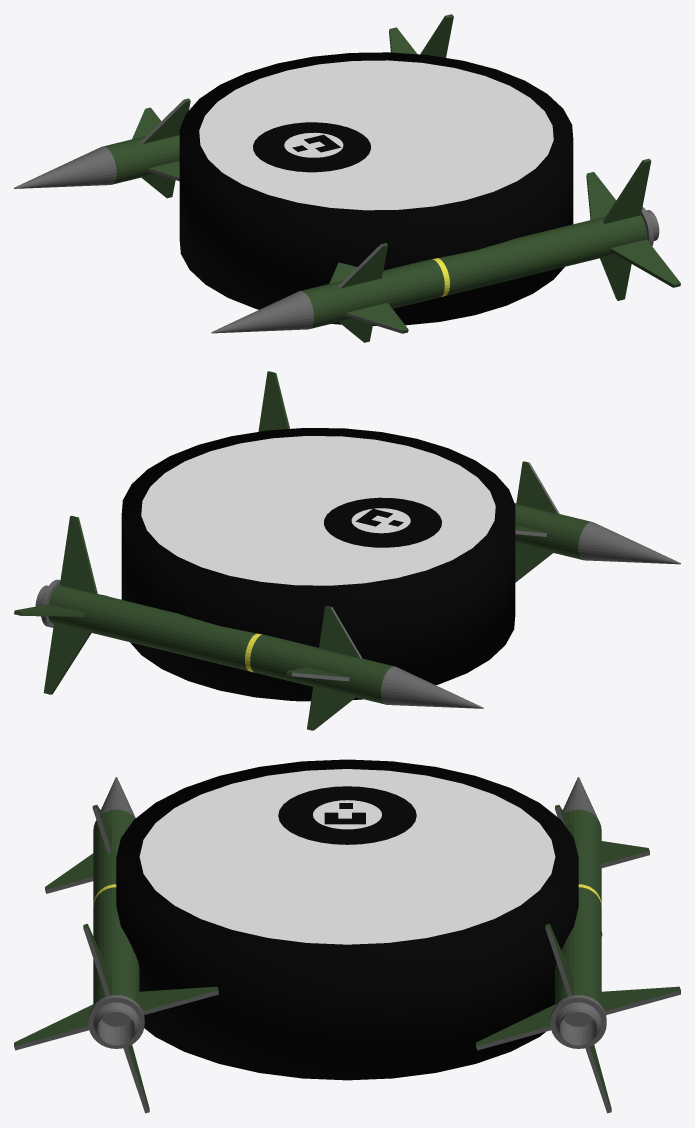
File: cleanRobot1.gltf
3 views of the same model, one above another, from view 1: azimuth 30°, elevation 25°; view 2: azimuth 150°, elevation 25°; view 3: azimuth 270°, elevation 25° (orthographic). The views are drawn at different scales.
Visible parts, largest first — view 1: robot, missile, missile.001; view 2: robot, missile.001, missile; view 3: robot, missile.001, missile.
Boxes of the visible parts, bbox=[...] form: robot: bbox=[179, 52, 573, 325]; missile: bbox=[211, 158, 680, 342]; missile.001: bbox=[14, 14, 453, 198]; robot: bbox=[121, 428, 515, 701]; missile.001: bbox=[14, 515, 483, 730]; missile: bbox=[258, 371, 680, 582]; robot: bbox=[116, 759, 578, 1080]; missile.001: bbox=[476, 777, 680, 1113]; missile: bbox=[14, 777, 218, 1113].
Bounding box in the file's own units: 2.57 × 0.8872 × 2.89.
